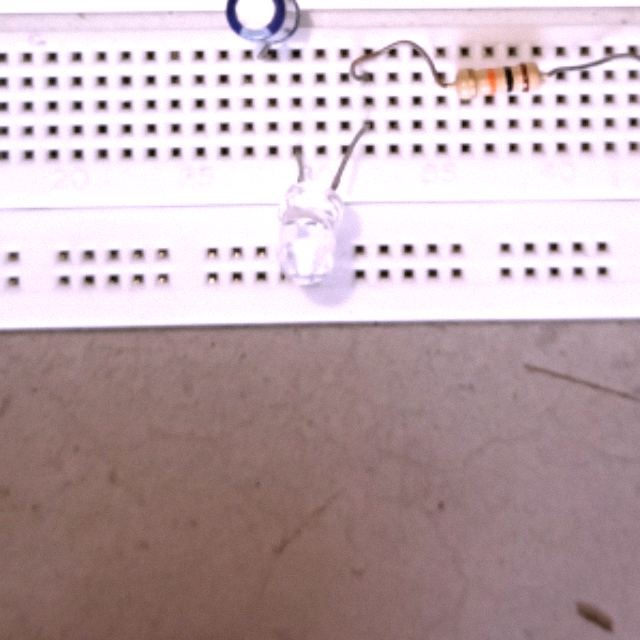capacitor: (224, 0, 301, 45)
resistor: (453, 59, 546, 103)
